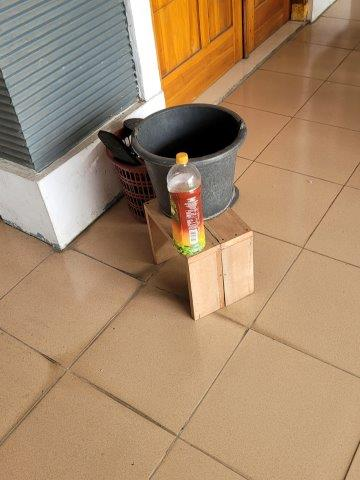botolplastik: (167, 153, 206, 252)
